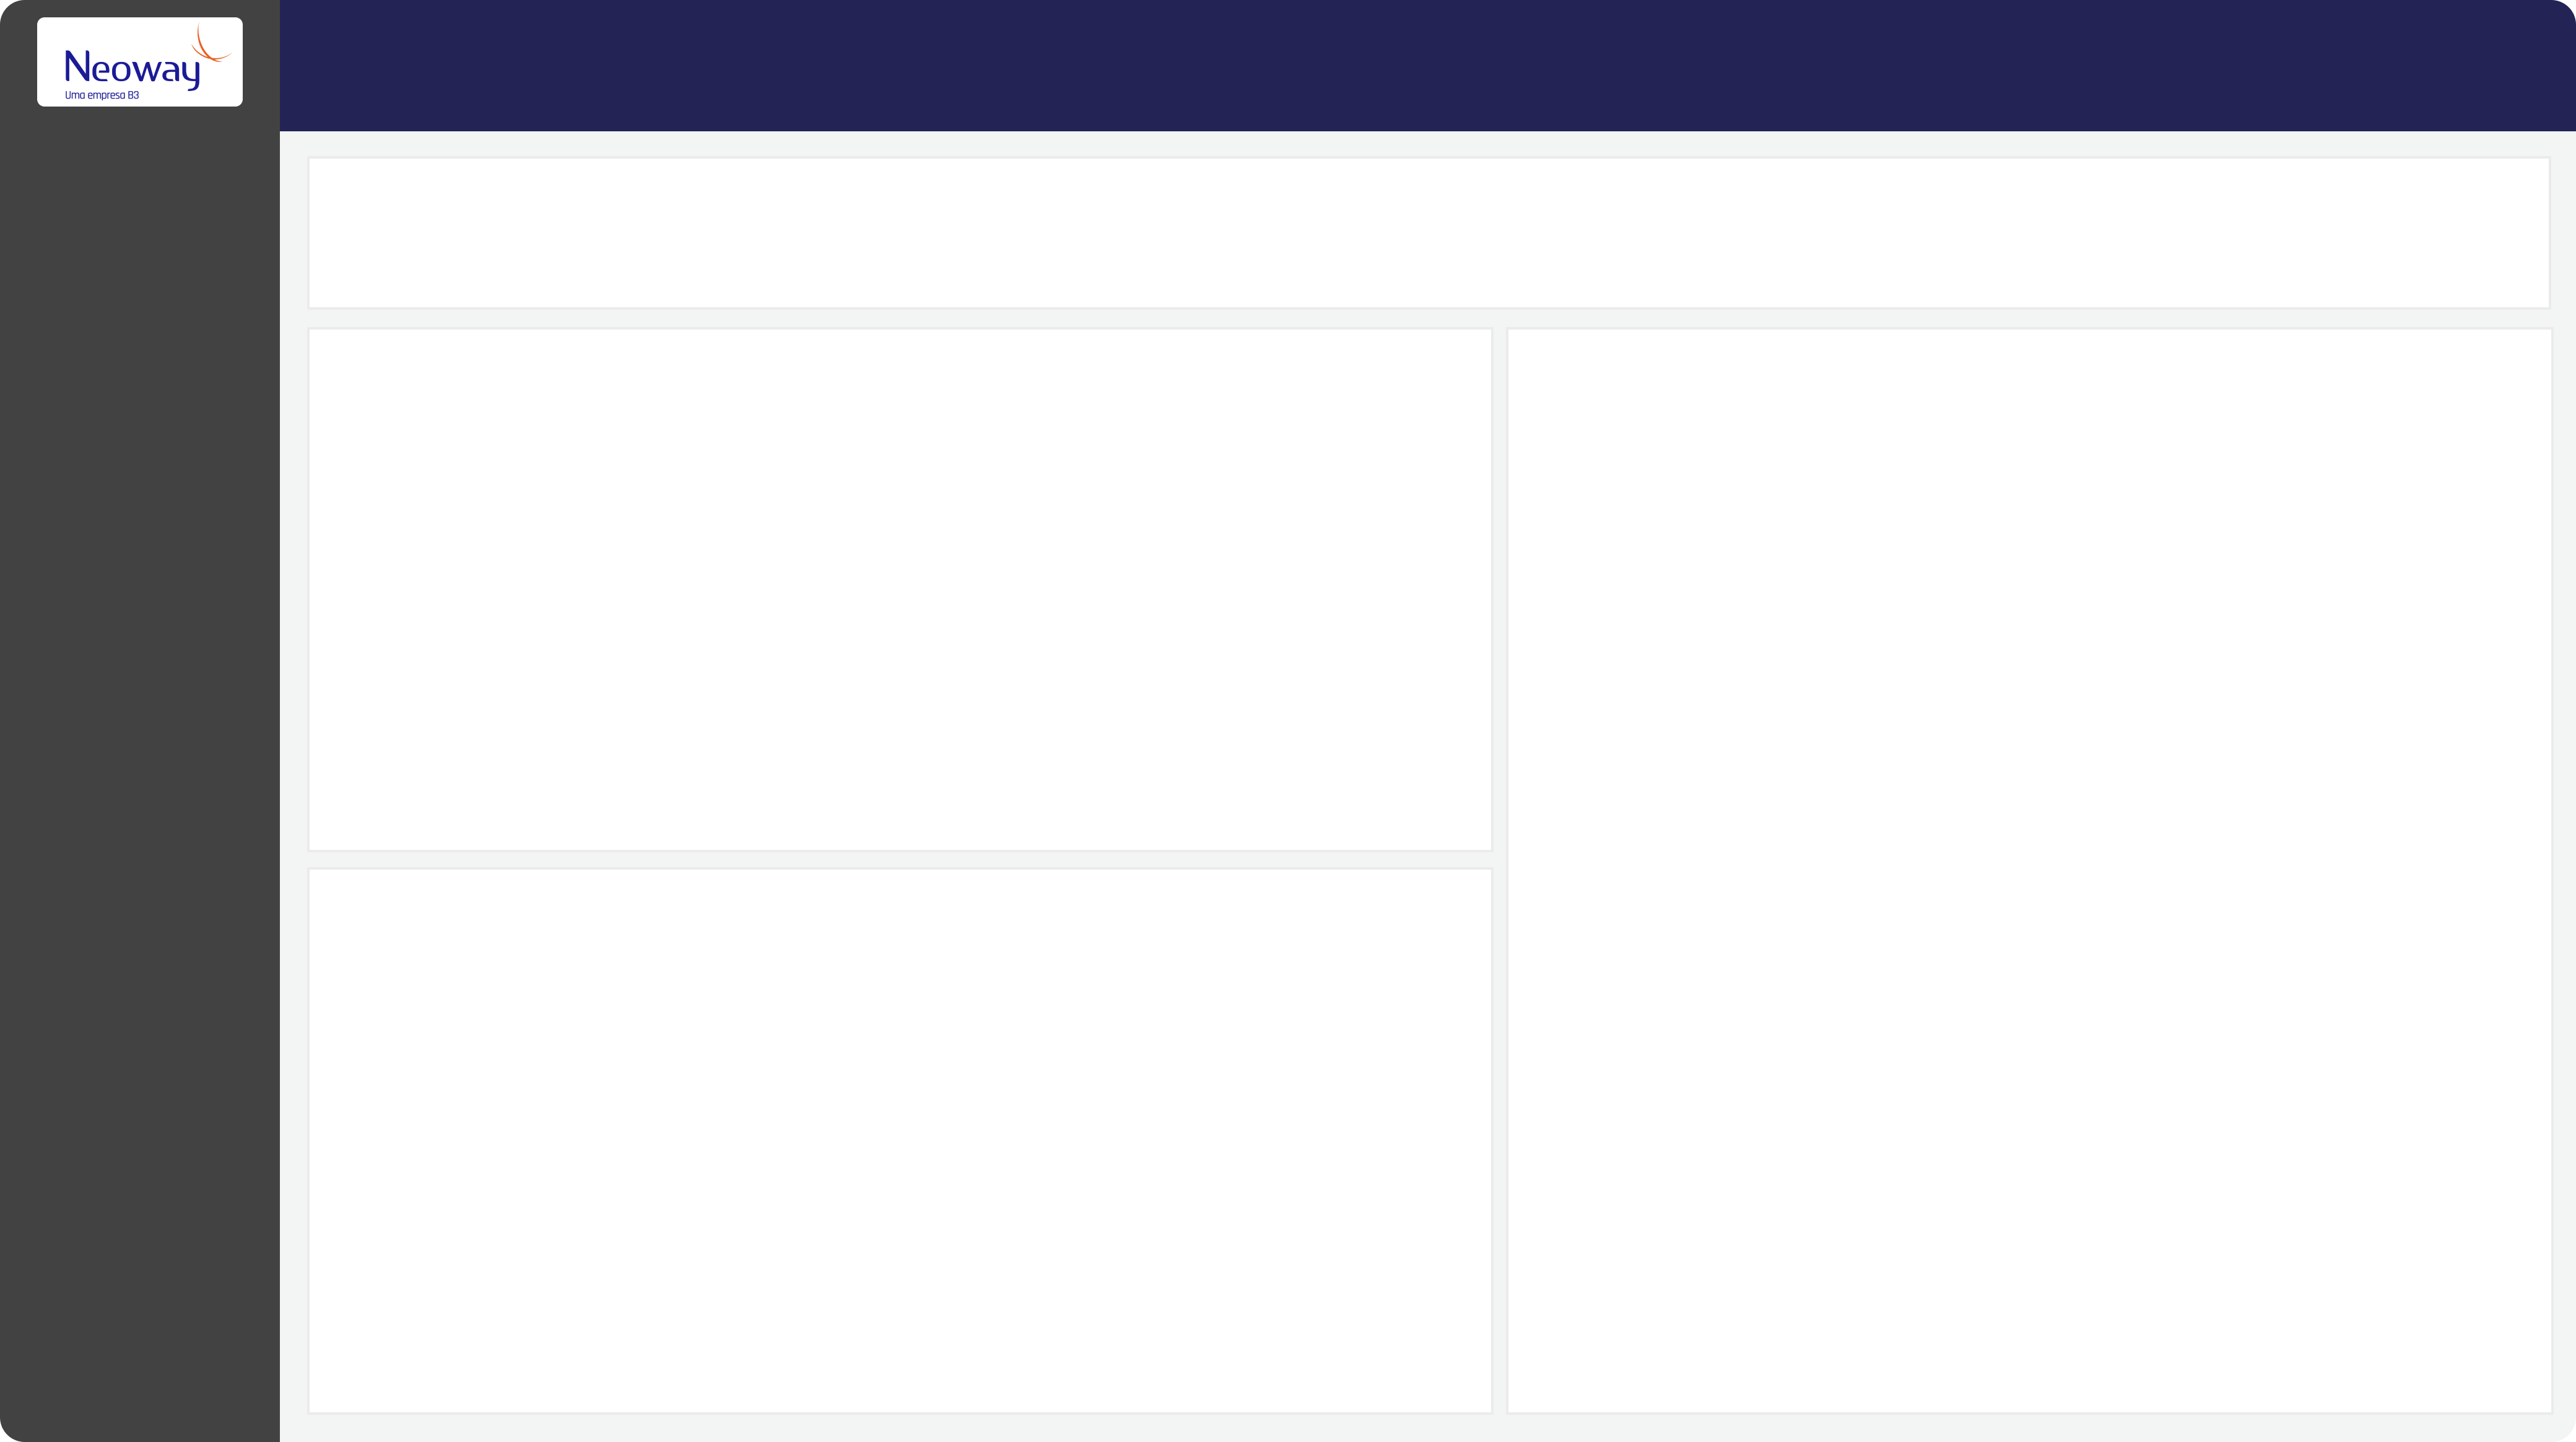

The dashboard page shown, as its layout file describes it:
{"tool":"powerbi","page":{"name":"Calendário de variação","canvas":[1920,1080],"ordinal":2},"visuals":[{"type":"pivotTable","fields":{"Rows":["d_empresas.empresa_bolsa_codigo_acao"],"Values":["d_medidas.ind_variacao"],"Columns":["o_ordem_ano_mes.AnoMês"]},"box":[255.6,745.5,828.2,281.9],"z":0},{"type":"tableEx","fields":{"Values":["d_calendario.Data","d_empresas.empresa_bolsa_nome_empresa","d_empresas.empresa_bolsa_codigo_acao","d_medidas.valor_acao_abertura","d_medidas.valor_acao_minimo","d_medidas.valor_acao_maximo","d_medidas.valor_acao_fechamento","d_medidas.ind_variacao"]},"box":[1155.2,330.8,712.9,696.6],"z":1000},{"type":"textbox","box":[254.4,667.5,407.2,35.1],"z":2000},{"type":"textbox","box":[260.7,288.5,582.2,35.7],"z":3000},{"type":"shape","box":[261.9,701.6,13.8,13.8],"z":4000},{"type":"textbox","box":[278.1,694.1,260.6,31.3],"z":5000},{"type":"textbox","box":[506.1,695.2,260.6,30.1],"z":6000},{"type":"shape","box":[489.9,702.9,15,13.8],"z":7000},{"type":"pivotTable","fields":{"Rows":["d_empresas.empresa_bolsa_nome_empresa","d_empresas.empresa_bolsa_codigo_acao"],"Values":["d_medidas.valor_acao_abertura","d_medidas.valor_acao_minimo","d_medidas.valor_acao_maximo","d_medidas.valor_acao_fechamento","d_medidas.ind_variacao"]},"box":[260.6,330.8,825.7,293.2],"z":8000},{"type":"textbox","box":[260.3,264.3,618.9,35.1],"z":9000},{"type":"textbox","box":[1149.7,284.3,469.7,35.7],"z":10000},{"type":"textbox","box":[1149.3,260.1,618.9,35.1],"z":11000},{"type":"textbox","box":[230.5,10,784.3,53.9],"z":12000},{"type":"textbox","box":[233,52.6,784.3,37.6],"z":13000},{"type":"slicer","fields":{"Values":["d_calendario.Ano","o_ordem_mes.Mês"]},"box":[250.6,139.3,200.5,76.4],"z":14000},{"type":"slicer","fields":{"Values":["d_empresas.empresa_bolsa_nome_empresa"]},"box":[444.4,138.9,227.6,77.2],"z":15000},{"type":"slicer","fields":{"Values":["d_empresas.empresa_regiao"]},"box":[1414.5,139.3,221.8,76.4],"z":16000},{"type":"slicer","fields":{"Values":["d_empresas.empresa_uf"]},"box":[1636.3,139.9,231.8,75.2],"z":17000},{"type":"slicer","fields":{"Values":["d_empresas.empresa_cnae"]},"box":[1106.3,139.9,308.2,75.2],"z":18000},{"type":"slicer","fields":{"Values":["f_cotacoes.cotacao_codigo_acao"]},"box":[666.5,138.9,189,77.2],"z":19000},{"type":"slicer","fields":{"Values":["d_empresas.empresa_ramo_atividade_descricao"]},"box":[853.2,139.9,258.1,75.2],"z":20000},{"type":"pageNavigator","box":[1.3,157.9,208,192.9],"z":21000}]}

Visuals, with their boxes on the page's 1920x1080 design canvas (x1, y1, x2, y2). These are canvas units, not pixel positions in the 2576x1442 screenshot, which may show the page scaled, cropped or inside an application window:
pivotTable - d_empresas.empresa_bolsa_codigo_acao x d_medidas.ind_variacao: {"left": 256, "top": 746, "right": 1084, "bottom": 1027}
tableEx - d_calendario.Data x d_empresas.empresa_bolsa_nome_empresa: {"left": 1155, "top": 331, "right": 1868, "bottom": 1027}
textbox: {"left": 254, "top": 668, "right": 662, "bottom": 703}
textbox: {"left": 261, "top": 288, "right": 843, "bottom": 324}
shape: {"left": 262, "top": 702, "right": 276, "bottom": 715}
textbox: {"left": 278, "top": 694, "right": 539, "bottom": 725}
textbox: {"left": 506, "top": 695, "right": 767, "bottom": 725}
shape: {"left": 490, "top": 703, "right": 505, "bottom": 717}
pivotTable - d_empresas.empresa_bolsa_nome_empresa x d_empresas.empresa_bolsa_codigo_acao: {"left": 261, "top": 331, "right": 1086, "bottom": 624}
textbox: {"left": 260, "top": 264, "right": 879, "bottom": 299}
textbox: {"left": 1150, "top": 284, "right": 1619, "bottom": 320}
textbox: {"left": 1149, "top": 260, "right": 1768, "bottom": 295}
textbox: {"left": 230, "top": 10, "right": 1015, "bottom": 64}
textbox: {"left": 233, "top": 53, "right": 1017, "bottom": 90}
slicer - d_calendario.Ano x o_ordem_mes.Mês: {"left": 251, "top": 139, "right": 451, "bottom": 216}
slicer - d_empresas.empresa_bolsa_nome_empresa: {"left": 444, "top": 139, "right": 672, "bottom": 216}
slicer - d_empresas.empresa_regiao: {"left": 1414, "top": 139, "right": 1636, "bottom": 216}
slicer - d_empresas.empresa_uf: {"left": 1636, "top": 140, "right": 1868, "bottom": 215}
slicer - d_empresas.empresa_cnae: {"left": 1106, "top": 140, "right": 1414, "bottom": 215}
slicer - f_cotacoes.cotacao_codigo_acao: {"left": 666, "top": 139, "right": 856, "bottom": 216}
slicer - d_empresas.empresa_ramo_atividade_descricao: {"left": 853, "top": 140, "right": 1111, "bottom": 215}
pageNavigator: {"left": 1, "top": 158, "right": 209, "bottom": 351}
